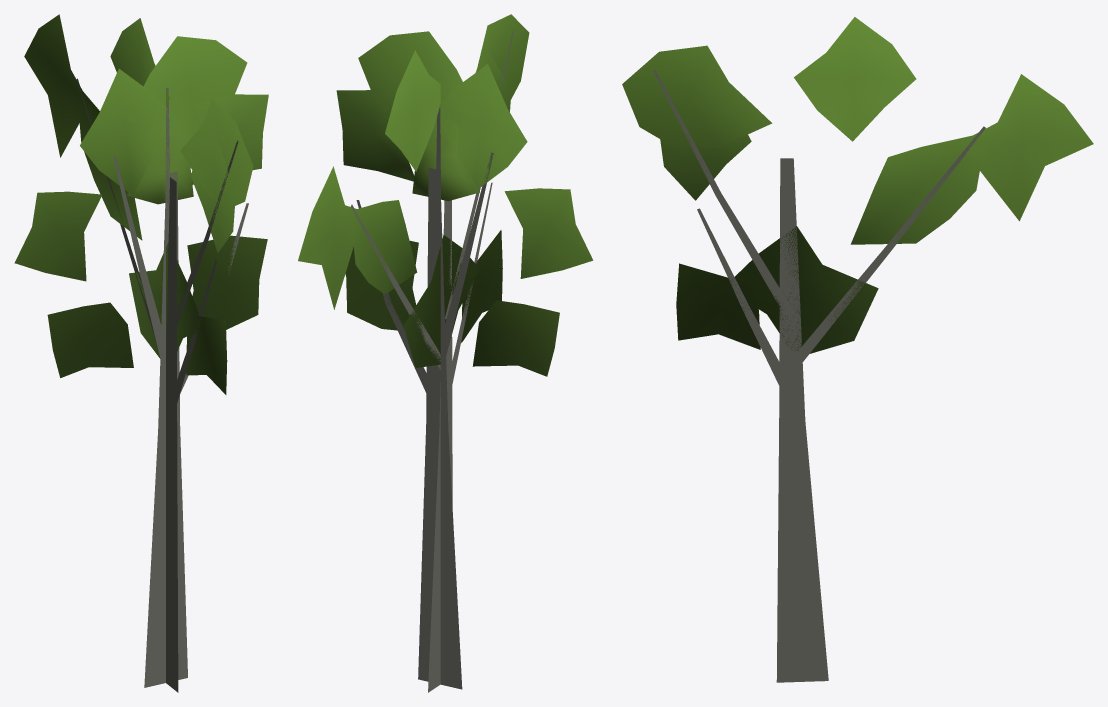
File: beech-a.card.glb
3 renders of one model, left to right at view 1: azimuth 30°, elevation 25°; view 2: azimuth 150°, elevation 25°; view 3: azimuth 270°, elevation 25°, orthographic. The views are drawn at different scales.
Size of the model in its own units: 4.71 by 11.44 by 7.35.
